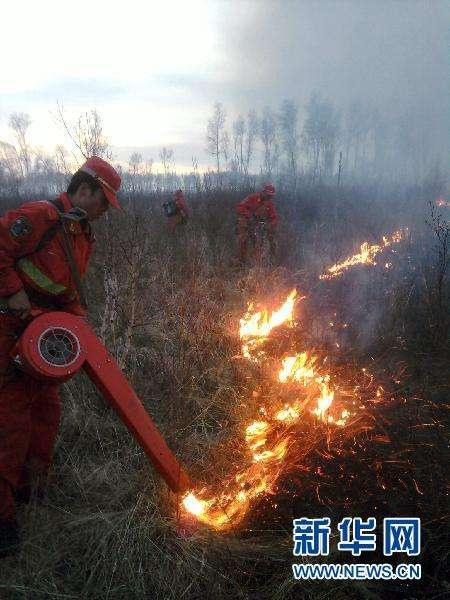fire: (179, 286, 378, 527), (319, 219, 414, 276)
